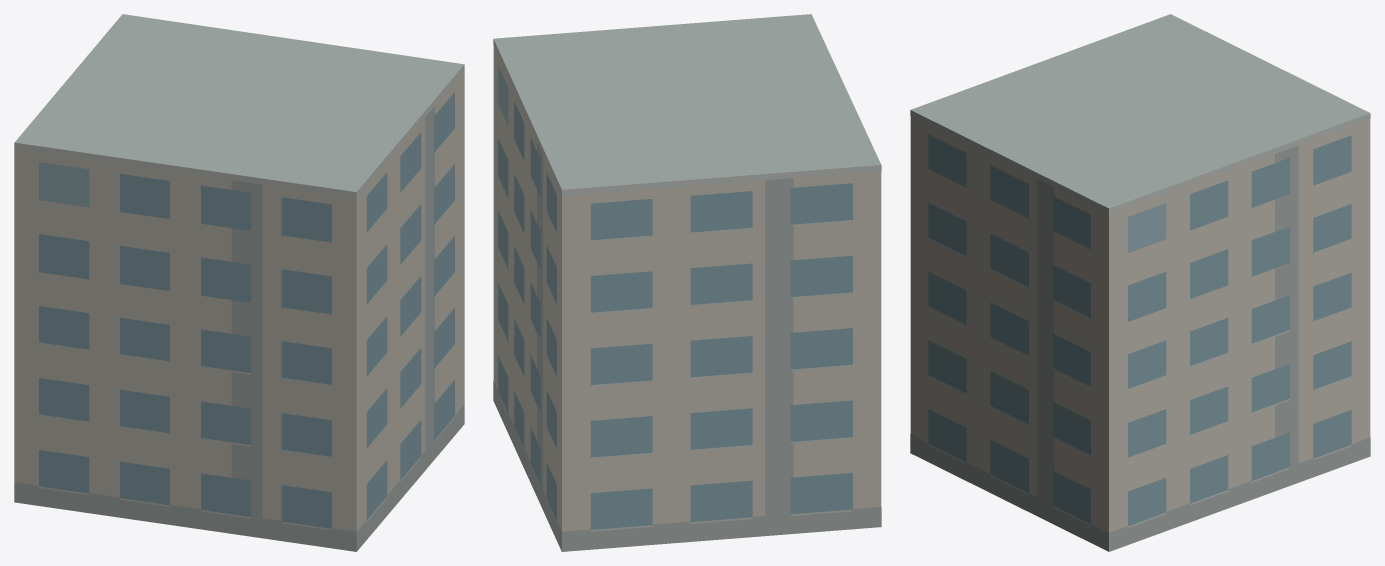
Rendered from survey-upis-32889565.glb.
3 renders of one model, left to right at view 1: azimuth 30°, elevation 25°; view 2: azimuth 150°, elevation 25°; view 3: azimuth 270°, elevation 25°, orthographic. The views are drawn at different scales.
Parts seen in each view (by area): view 1: survey-upis-32889565.tmp; view 2: survey-upis-32889565.tmp; view 3: survey-upis-32889565.tmp.
Part boxes in pixels (box(x1,y1,x2,y2)): survey-upis-32889565.tmp: box(14, 14, 464, 551); survey-upis-32889565.tmp: box(493, 14, 881, 551); survey-upis-32889565.tmp: box(910, 14, 1370, 551).
Bounding box in the file's own units: 17.27 × 14.2 × 17.25.
